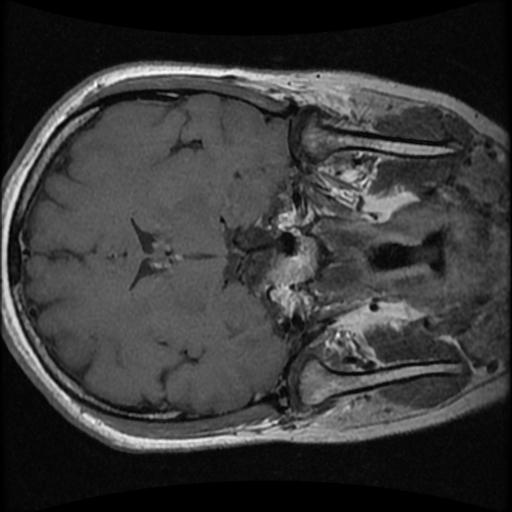pituitary tumour: (251, 199, 320, 322)
